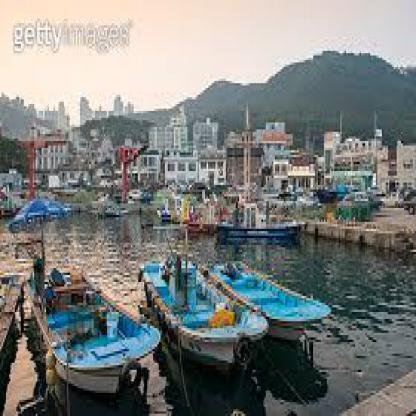fish-b: (16, 224, 166, 395), (136, 234, 270, 368), (214, 240, 339, 361)
